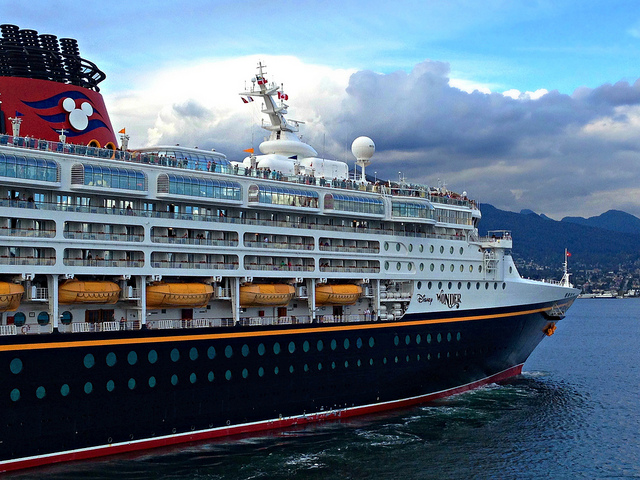cruise_ship: (1, 22, 580, 475)
